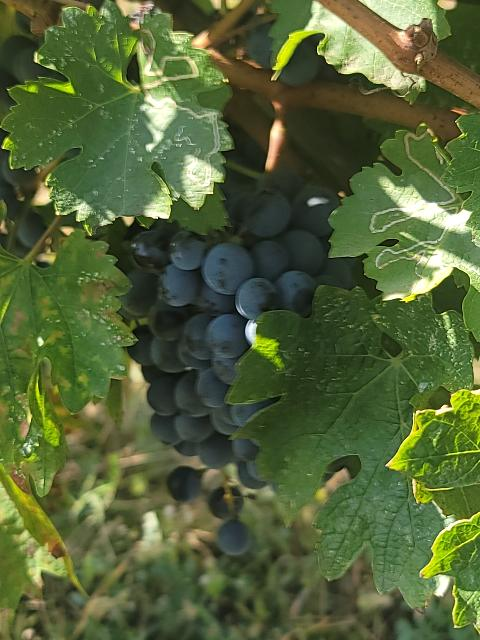grapes: (119, 172, 374, 489)
